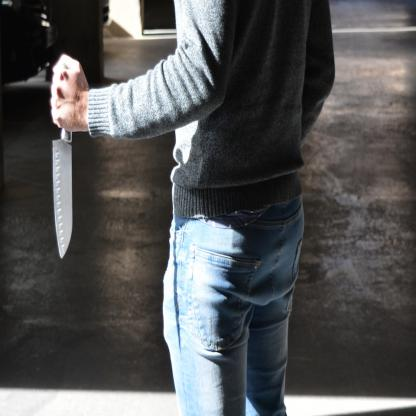knife: (47, 114, 78, 266)
